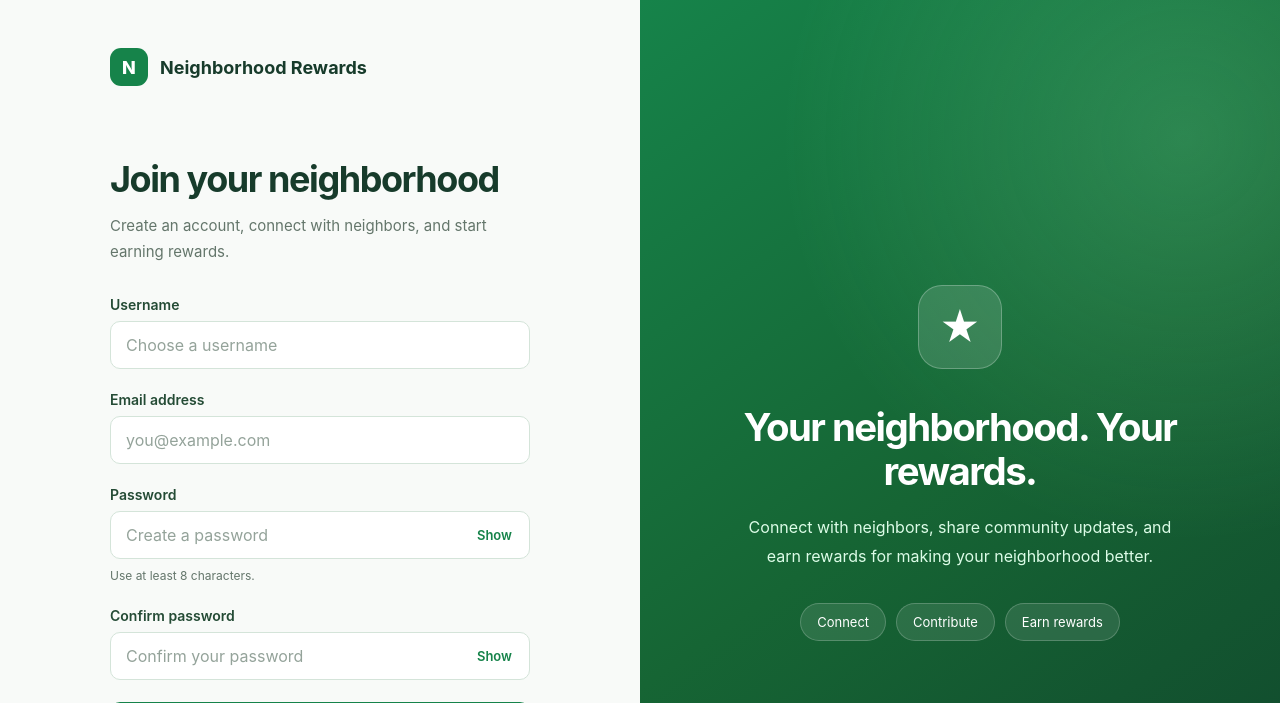
Test: Register Page › rejects mismatched passwords
The width and height of the screenshot is (1280, 703).
Type "neighbor123" into the field labelled "Username" at (320, 345), box [110,321,530,369]
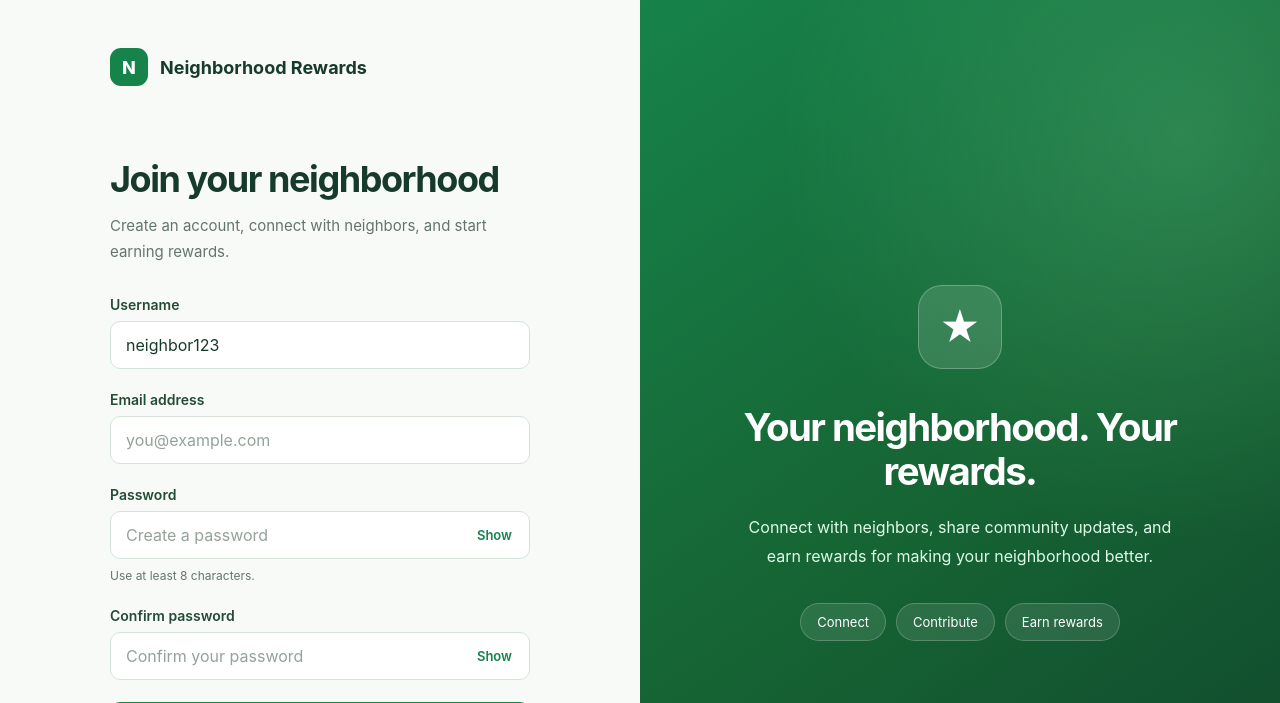
Type "neighbor@example.com" into the field labelled "Email address" at (320, 440), box [110,416,530,464]
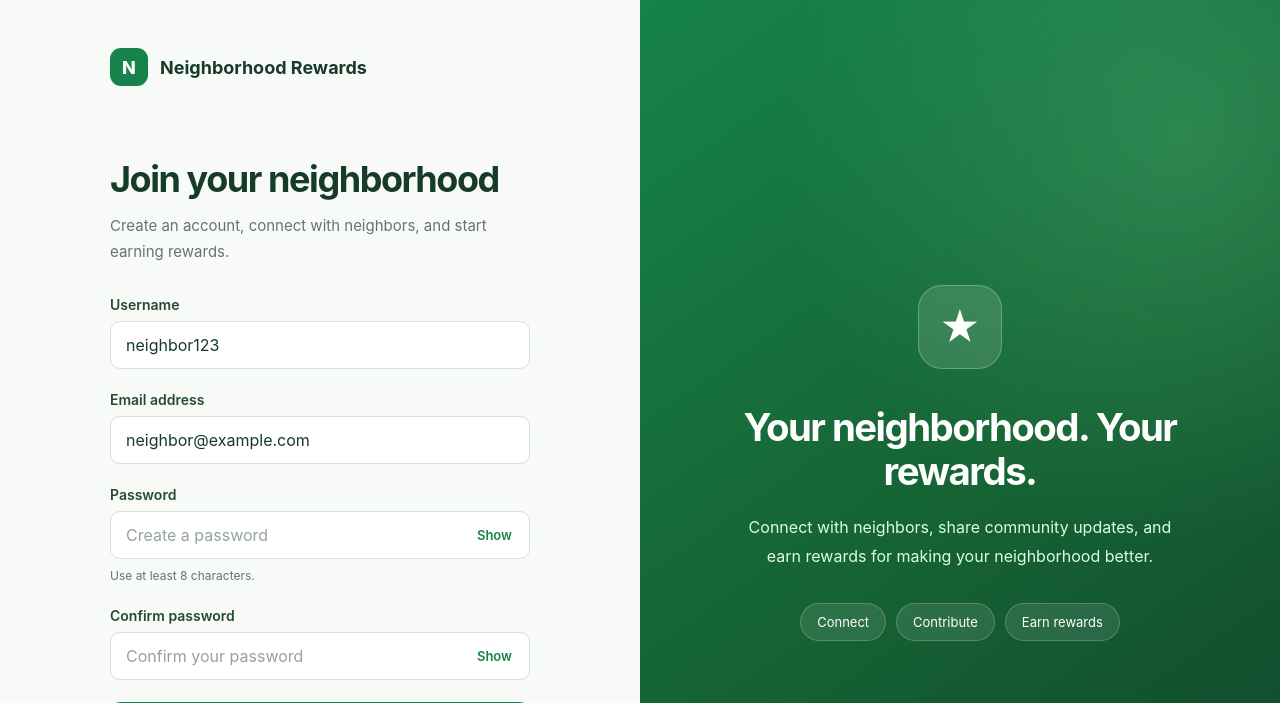
Type "SecurePassword123!" into the password field labelled "Password" at (320, 535), box [110,511,530,559]
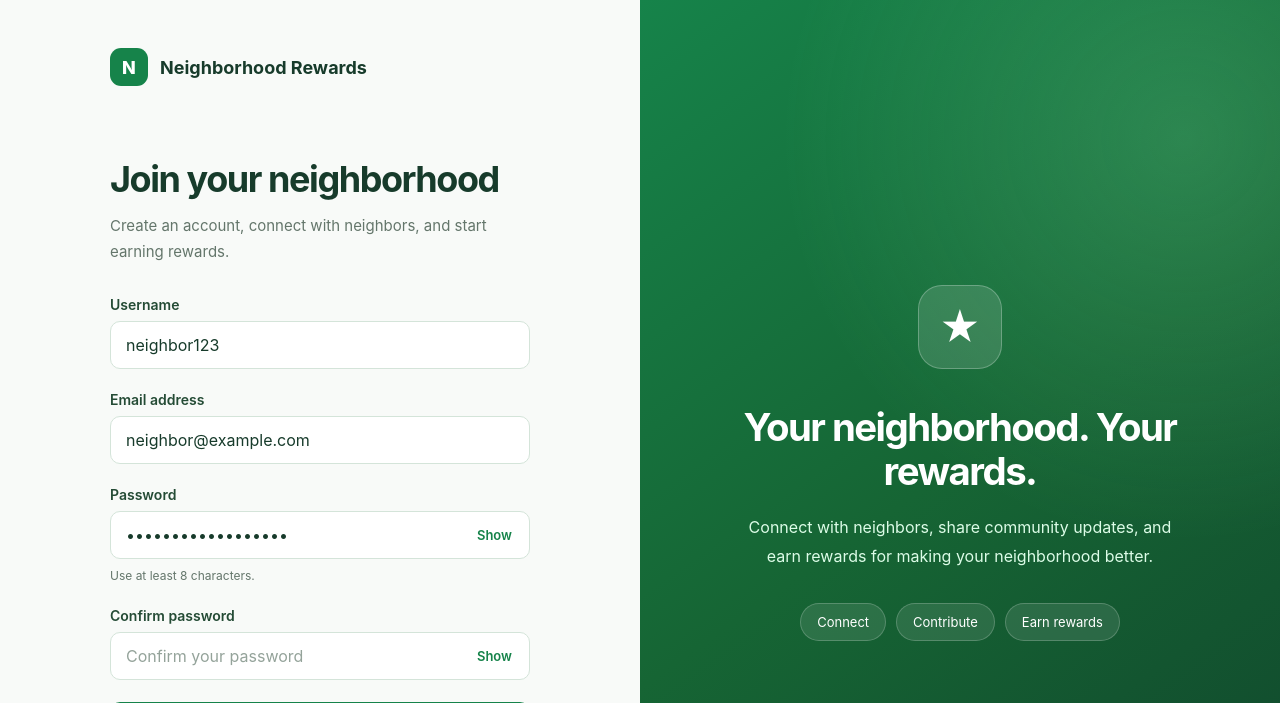
Type "SecurePassword123!" into the password field labelled "Confirm password" at (320, 656), box [110,632,530,680]
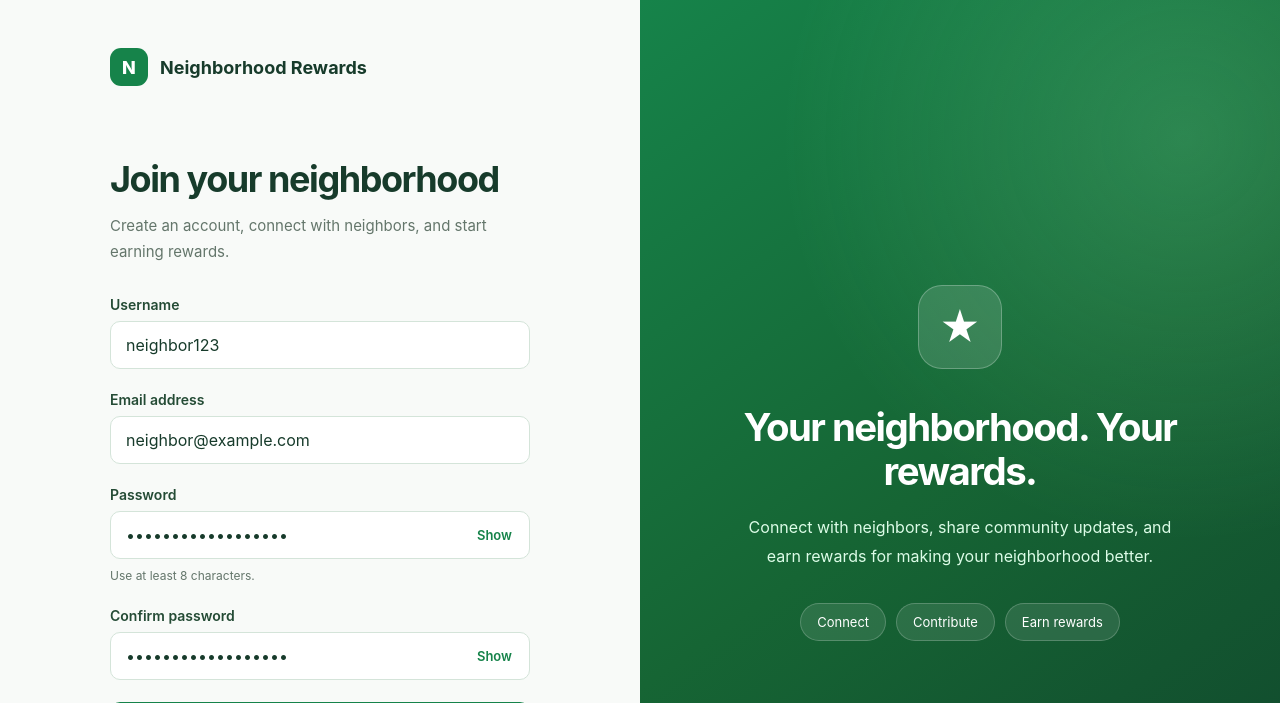
Type "DifferentPassword123!" into the password field labelled "Confirm password" at (320, 656), box [110,632,530,680]
(page scrolled)
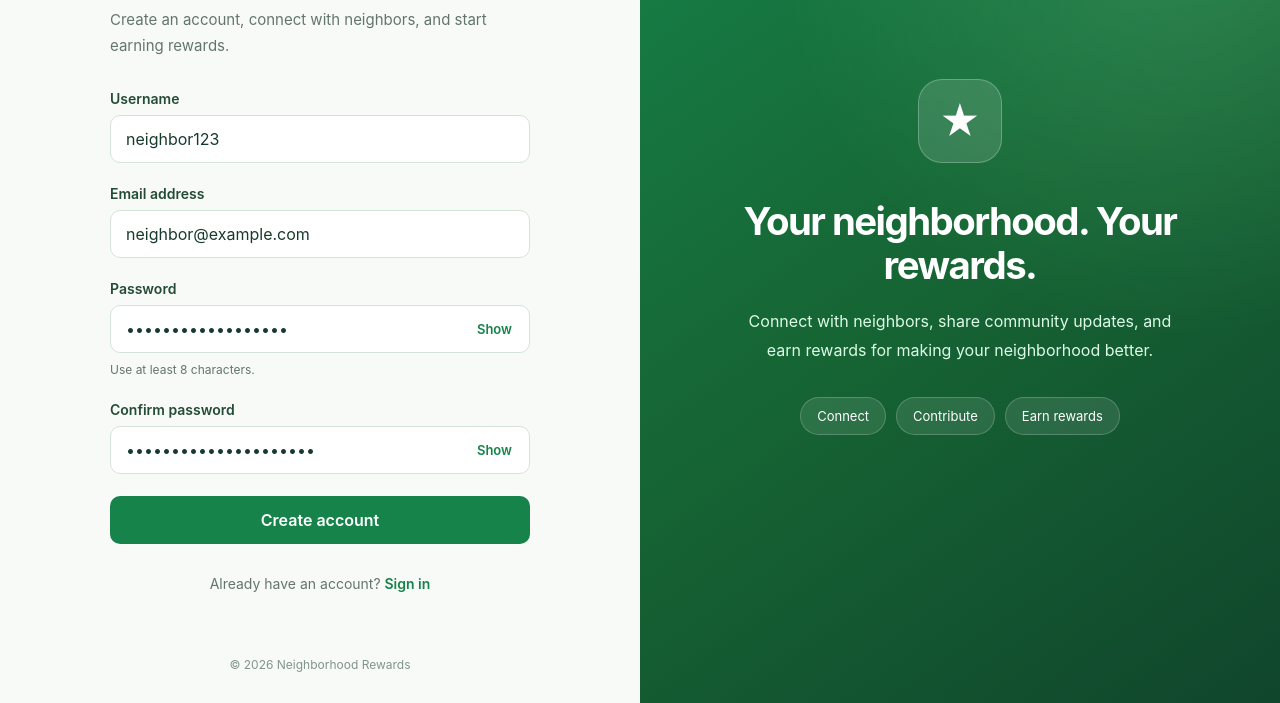
Click the button "Create account" at (320, 520), box [110,496,530,544]
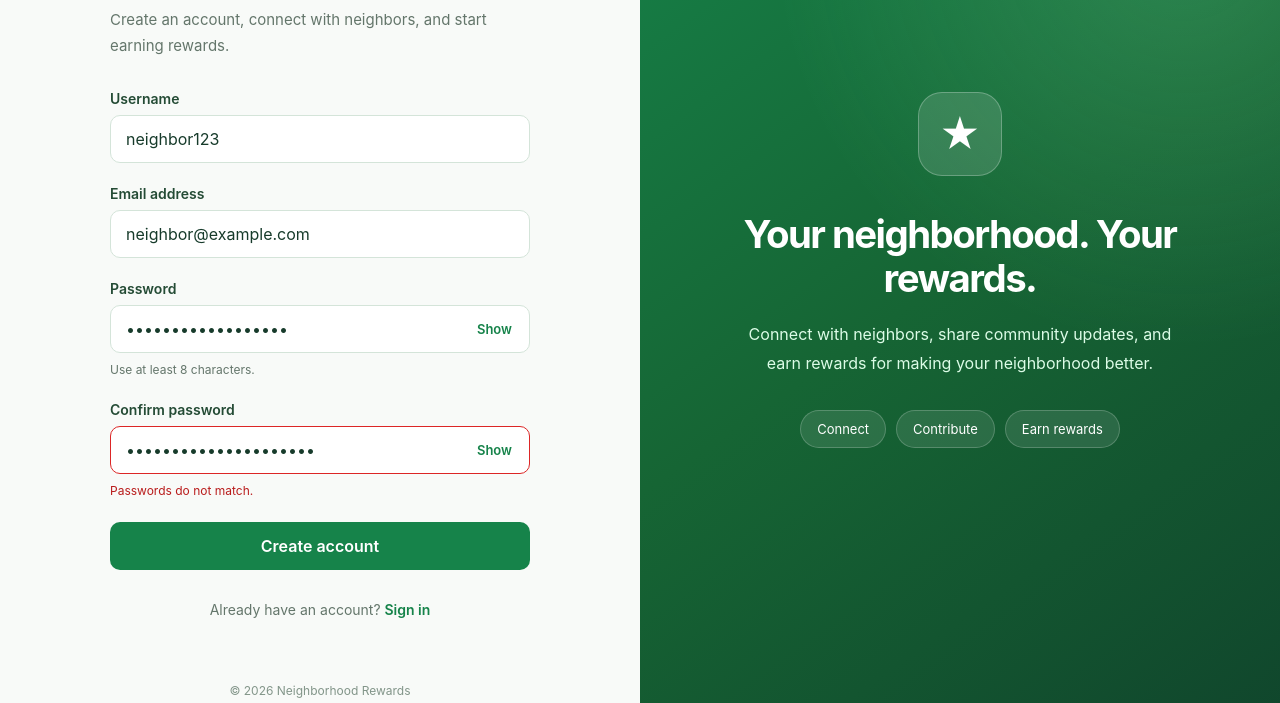
Now the text "Passwords do not match." is shown, box [110,483,253,498]
